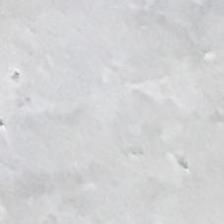Non_Crack: (7, 43, 189, 167)
